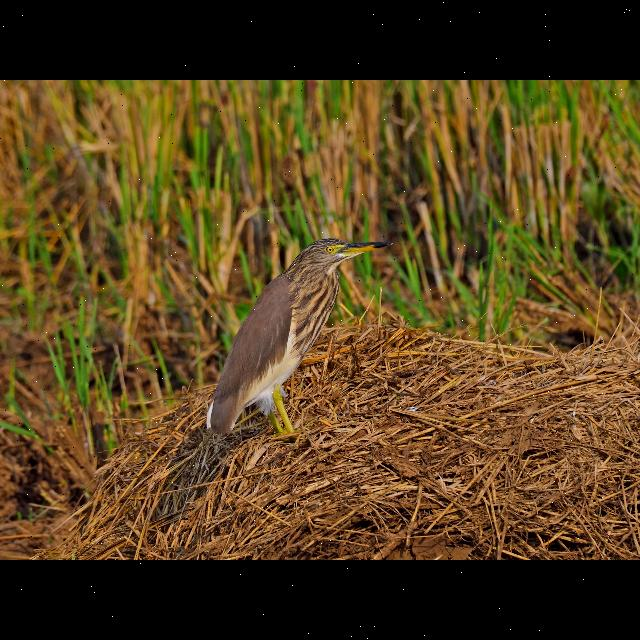heron: (157, 232, 399, 460)
